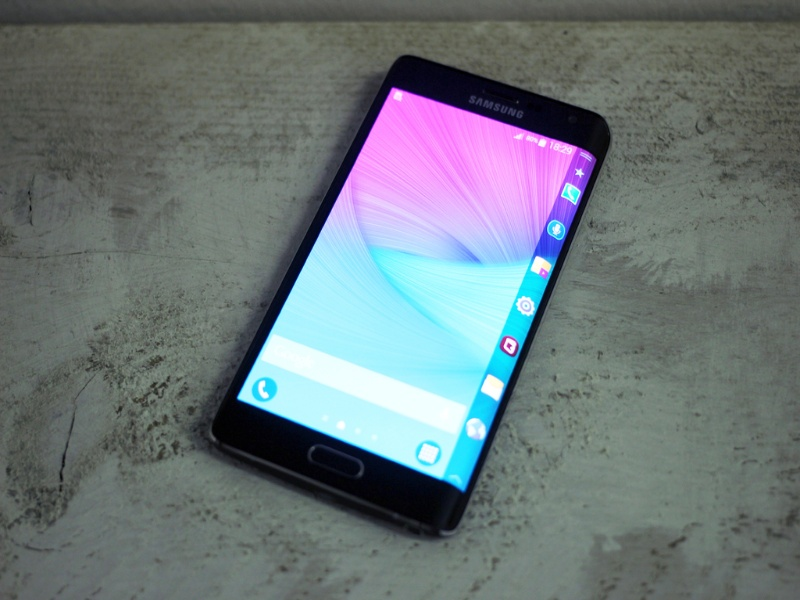Mobile Phone: (201, 32, 626, 552)
